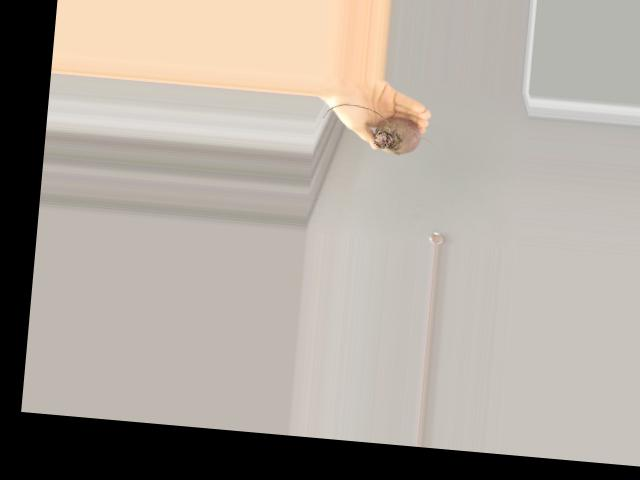beet: (321, 101, 435, 156)
